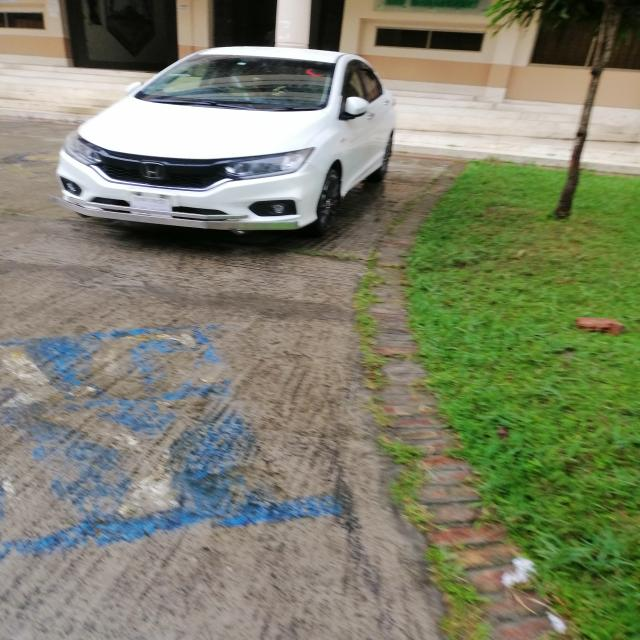Car: (48, 40, 408, 244)
